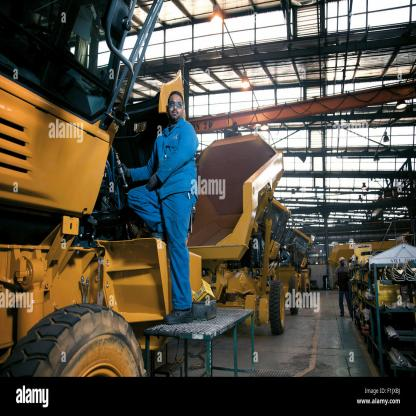dump_truck: (13, 28, 318, 348)
person: (120, 90, 218, 325), (330, 248, 356, 322)
